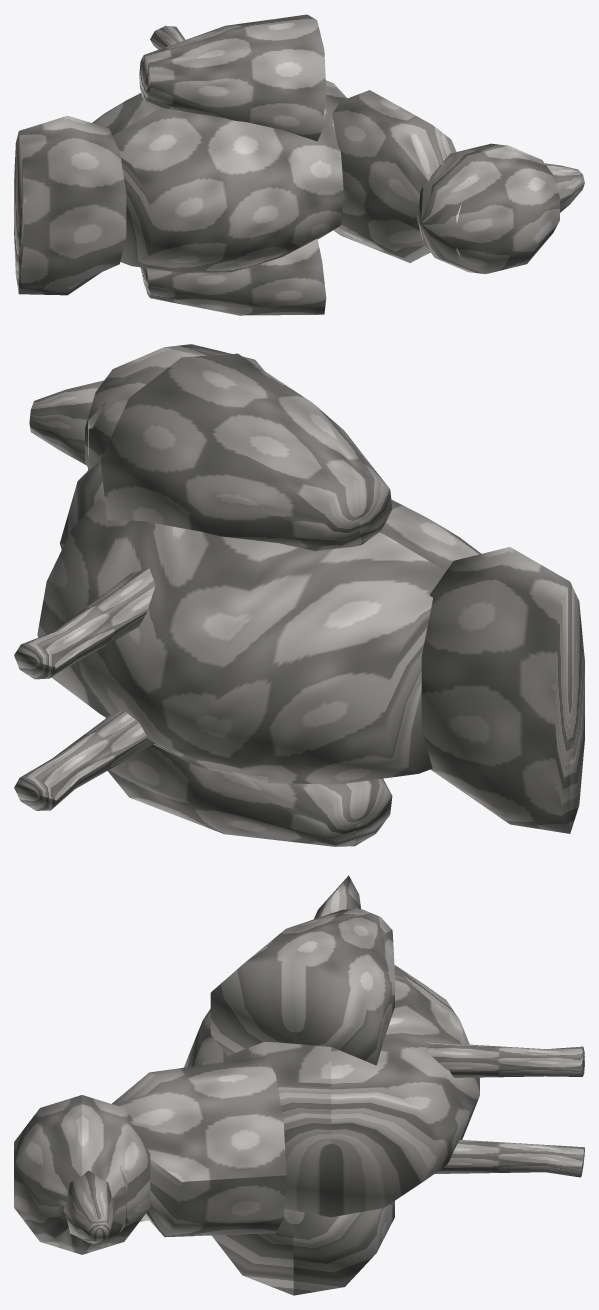
File: pigeon.obj
The picture shows the model from 3 angles, top to bottom: view 1: azimuth 30°, elevation 25°; view 2: azimuth 150°, elevation 25°; view 3: azimuth 270°, elevation 25°; orthographic projection. The views are drawn at different scales.
Parts seen in each view (by area): view 1: pigeon; view 2: pigeon; view 3: pigeon.
Part boxes in pixels (x1=…): pigeon: x1=14, y1=14, x2=584, y2=315; pigeon: x1=14, y1=344, x2=584, y2=846; pigeon: x1=14, y1=875, x2=584, y2=1295.
Size of the model in its own units: 0.2814 by 0.1675 by 0.2593.
1 material, 1 textured.
